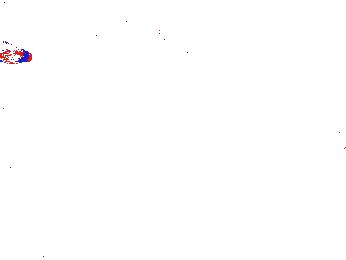glassfish: (81, 4, 209, 76)
red belly glassfish: (1, 40, 32, 64)
